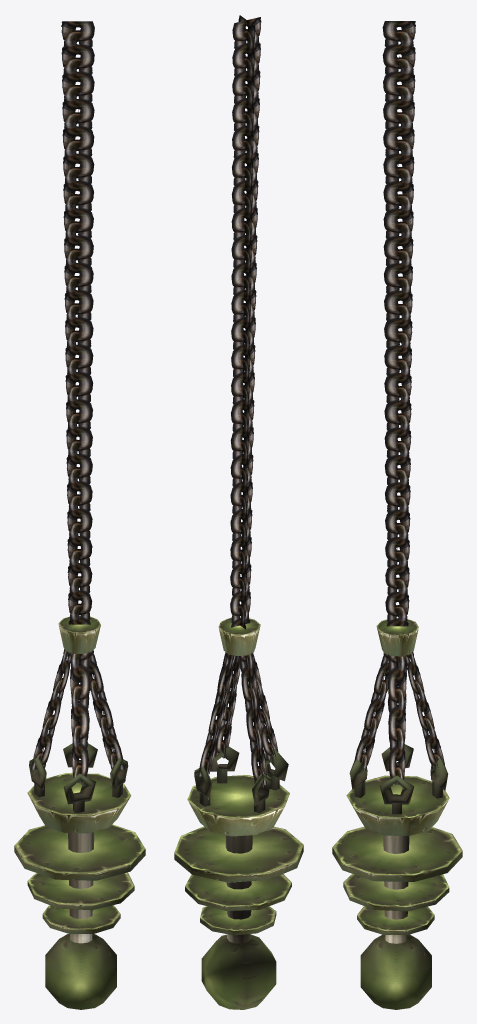
File: undead_teslacoil.obj
3 views of the same model, side by side, from view 1: azimuth 90°, elevation 25°; view 2: azimuth 210°, elevation 25°; view 3: azimuth 270°, elevation 25° (orthographic).
Parts seen in each view (by area): view 1: UNDEAD_TESLACOIL0, UNDEAD_TESLACOIL1; view 2: UNDEAD_TESLACOIL0, UNDEAD_TESLACOIL1; view 3: UNDEAD_TESLACOIL0, UNDEAD_TESLACOIL1.
Boxes of the visible parts, box(x1,y1,x2,y2) form: UNDEAD_TESLACOIL0: box(14, 615, 145, 1009); UNDEAD_TESLACOIL1: box(31, 21, 125, 782); UNDEAD_TESLACOIL0: box(174, 617, 303, 1009); UNDEAD_TESLACOIL1: box(197, 15, 278, 787); UNDEAD_TESLACOIL0: box(332, 618, 462, 1009); UNDEAD_TESLACOIL1: box(354, 21, 444, 784).
Bounding box in the file's own units: 2.17 × 18.67 × 2.24.
2 materials, 2 textured.
